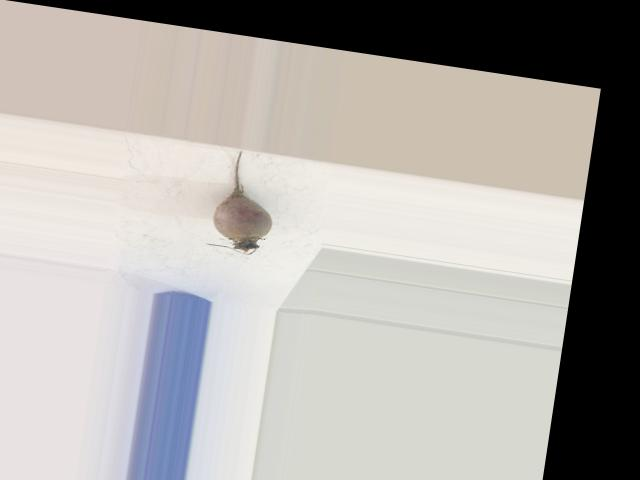beet: (204, 147, 281, 257)
